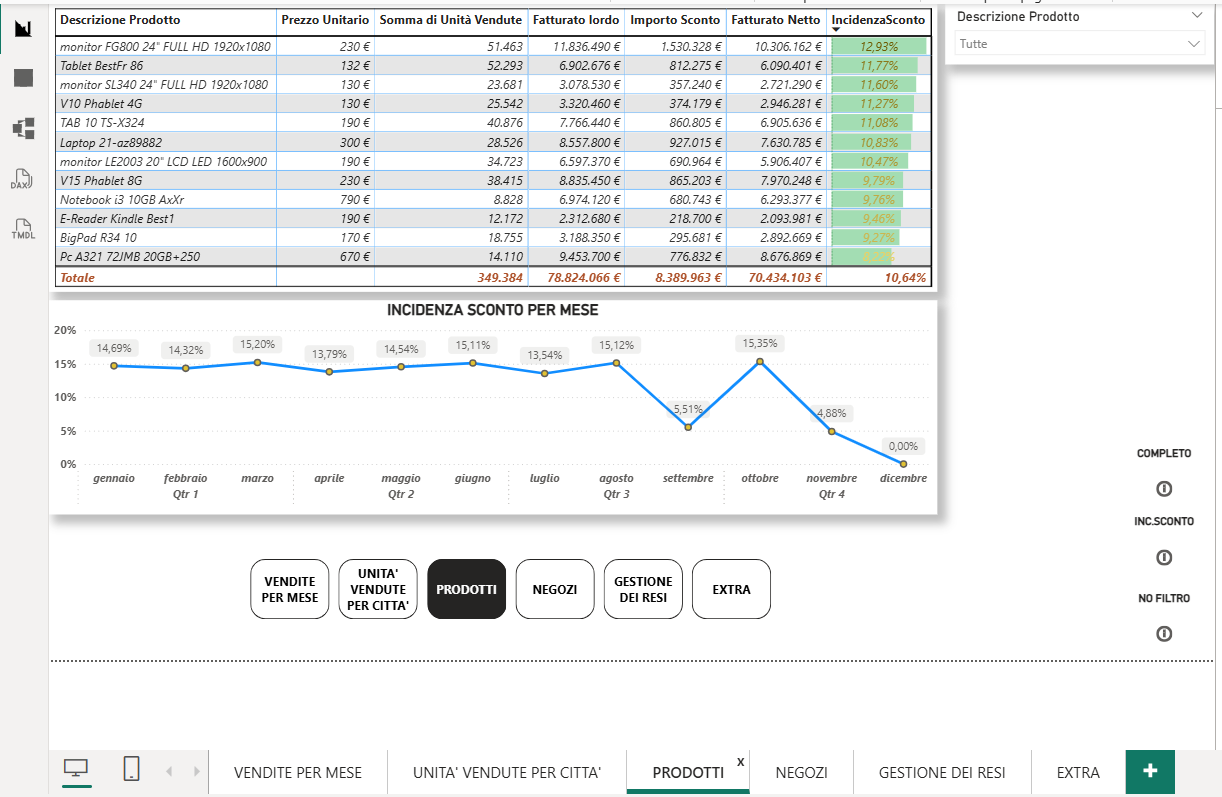

Layout of this report page (visuals, bound fields, positions):
{"tool":"powerbi","page":{"name":"PRODOTTI","canvas":[1280,720],"ordinal":2},"visuals":[{"type":"tableEx","fields":{"Values":["Prodotti.Descrizione Prodotto","Prodotti.Prezzo Unitario","Sum(Dati.Unità Vendute)","Dati.Fatturato lordo","Dati.Importo Sconto","Dati.Fatturato Netto","Dati.IncidenzaSconto"]},"box":[0,0,974.8,316.1],"z":0},{"type":"lineChart","title":"INCIDENZA SCONTO PER MESE","fields":{"Category":["Dati.Data Transizione.Variazione.Gerarchia data.Trimestre","Dati.Data Transizione.Variazione.Gerarchia data.Mese"],"Y":["Dati.IncidenzaSconto"]},"box":[0,325.7,974.8,235.3],"z":1000},{"type":"slicer","fields":{"Values":["Prodotti.Descrizione Prodotto"]},"box":[984.5,0,295.6,66.4],"z":2000},{"type":"pageNavigator","box":[220.8,609.3,575.5,66.4],"z":3000},{"type":"actionButton","title":"COMPLETO","box":[1169.4,485.8,110.3,74.8],"z":4000},{"type":"actionButton","title":"INC.SCONTO","box":[1169.4,560.6,110.3,74.8],"z":5000},{"type":"actionButton","title":"NO FILTRO","box":[1169.4,645.6,110.3,74.8],"z":6000}]}

Visuals, with their boxes on the page's 1280x720 design canvas (x1, y1, x2, y2). These are canvas units, not pixel positions in the 1222x797 screenshot, which may show the page scaled, cropped or inside an application window:
tableEx - Prodotti.Descrizione Prodotto x Prodotti.Prezzo Unitario: box(0, 0, 975, 316)
"INCIDENZA SCONTO PER MESE" lineChart: box(0, 326, 975, 561)
slicer - Prodotti.Descrizione Prodotto: box(984, 0, 1280, 66)
pageNavigator: box(221, 609, 796, 676)
"COMPLETO" actionButton: box(1169, 486, 1280, 561)
"INC.SCONTO" actionButton: box(1169, 561, 1280, 635)
"NO FILTRO" actionButton: box(1169, 646, 1280, 720)
